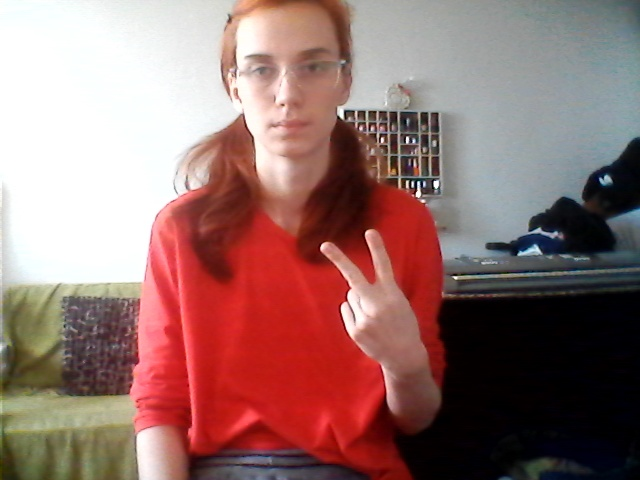v: (298, 226, 445, 373)
